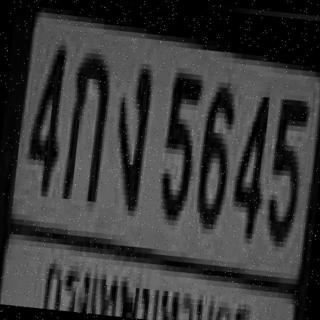A01: (61, 46, 112, 196)
A07: (109, 56, 152, 206)
N04: (23, 35, 68, 190), (228, 84, 270, 234)
N05: (156, 65, 202, 214), (264, 91, 308, 240)
N06: (193, 73, 236, 223)
